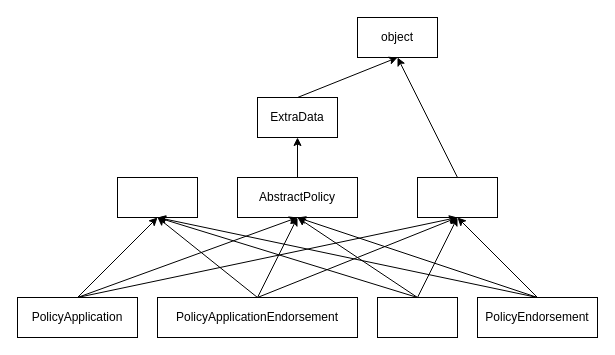
Image size: 615x355. Some labels were removed from this diagram. The shapes that lost their labels are listed below. From the top down, each one's box as (x1, y1, x2, y2) in pixels, then its label:
(116, 176, 198, 218): Base
(416, 176, 498, 218): FSMMixin
(376, 296, 458, 338): Policy
